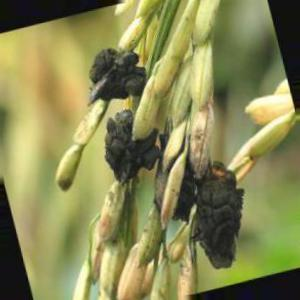False Smut: (186, 163, 239, 270), (108, 119, 152, 186), (95, 50, 143, 95)
